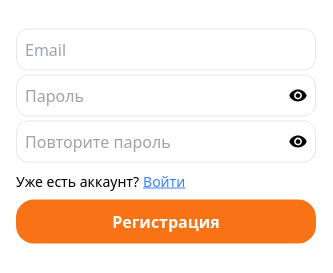
Test: Register › Должен проверить что если пароль неодинаковы то будет ошибка пароли не совпадают и переключение видимости пароля работет
This screenshot has width=333, height=273.
Type "mypassword" into the password field with placeholder "Пароль" at (166,96), box x1=16 y1=74 x2=316 y2=116
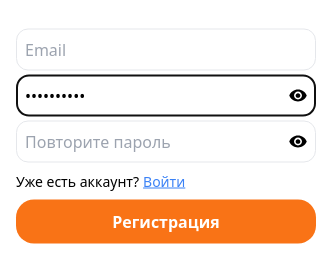
Type "mypassword123" into the password field with placeholder "Повторите пароль" at (166,142), box x1=16 y1=120 x2=316 y2=162
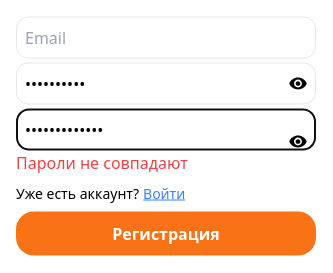
Expected: the text "Пароли не совпадают" is shown, x1=16 y1=152 x2=188 y2=174
Click the icon with test id "confirm-password-eye" at (298,142), box x1=288 y1=132 x2=308 y2=152
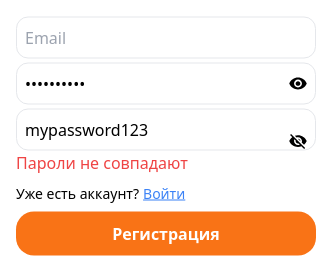
Expected: the field with placeholder "Повторите пароль" shows its text, x1=16 y1=108 x2=316 y2=150
Click the icon with test id "confirm-password-eyeOff" at (298,142), box x1=288 y1=132 x2=308 y2=152
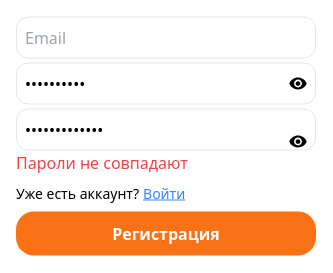
Expected: the 2nd password field with placeholder "Повторите пароль" hides its text, x1=16 y1=108 x2=316 y2=150
